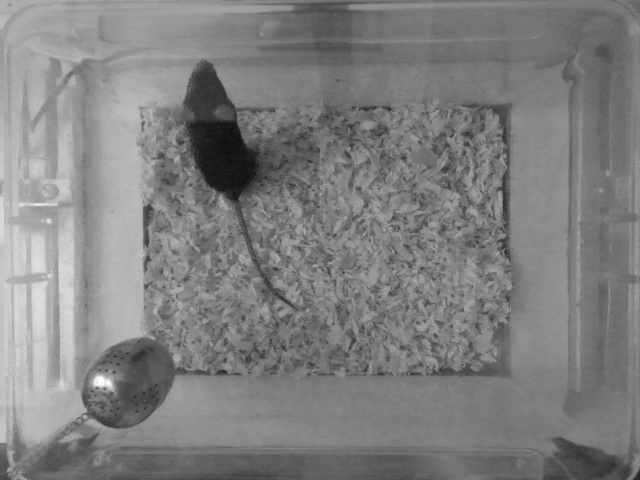mice: (183, 59, 302, 320)
